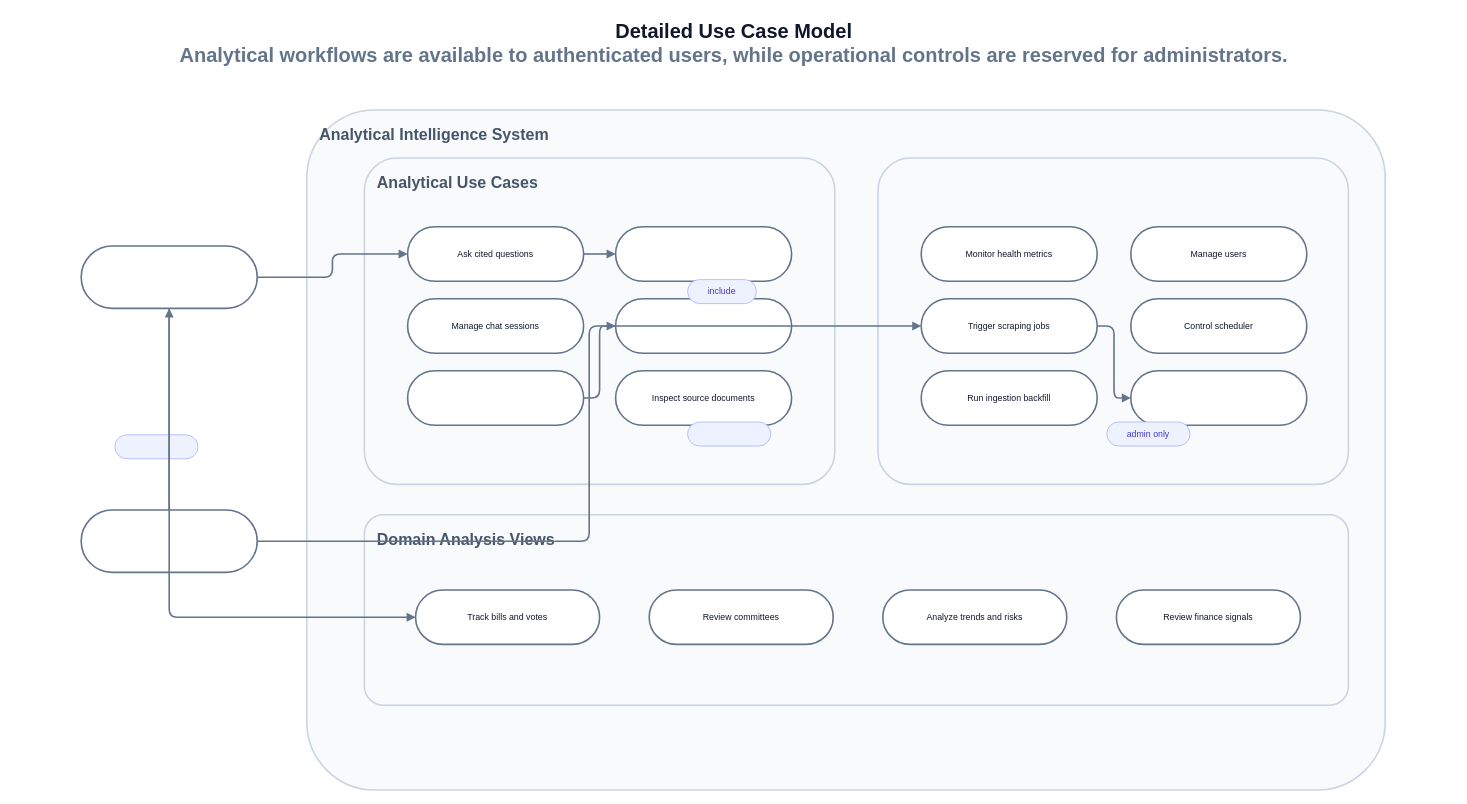
Some shapes in this 1467 by 804 pixel diagram are drawn without their labels. The box of each missing label's shape, as (x1, y1, x2, y2) in pixels:
Analyze graph paths: (406, 370, 584, 426)
Authenticated User: (80, 245, 258, 309)
Explore graph entities: (614, 298, 792, 354)
Operational Use Cases: (877, 157, 1349, 485)
Review reasoning trace: (614, 226, 792, 282)
role guard: (114, 434, 198, 459)
System Administrator: (80, 509, 258, 573)
Trigger reindexing: (1130, 370, 1307, 426)
uses graph: (687, 421, 771, 446)
